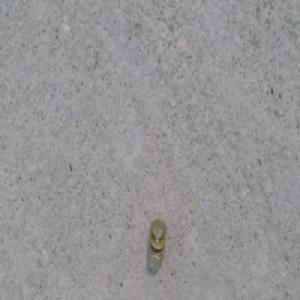BoltNutSet: (147, 219, 165, 266)
